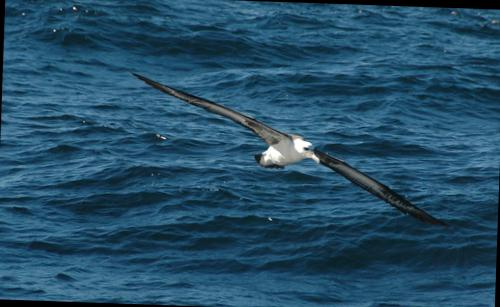bird: (116, 60, 461, 250)
